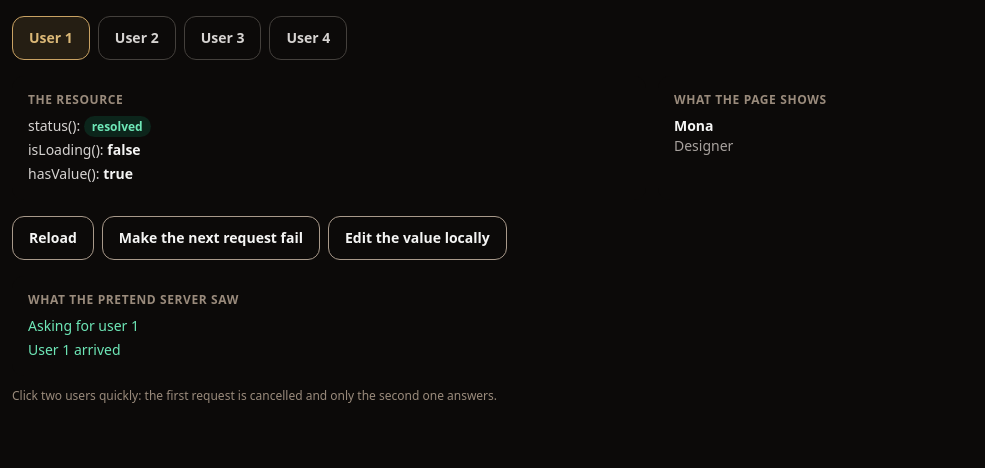
Test case: ResourceDemoComponent › shows the error and says there is no value when the request fails
Click the button "Make the next request fail": (211, 238) [102,216,320,260]
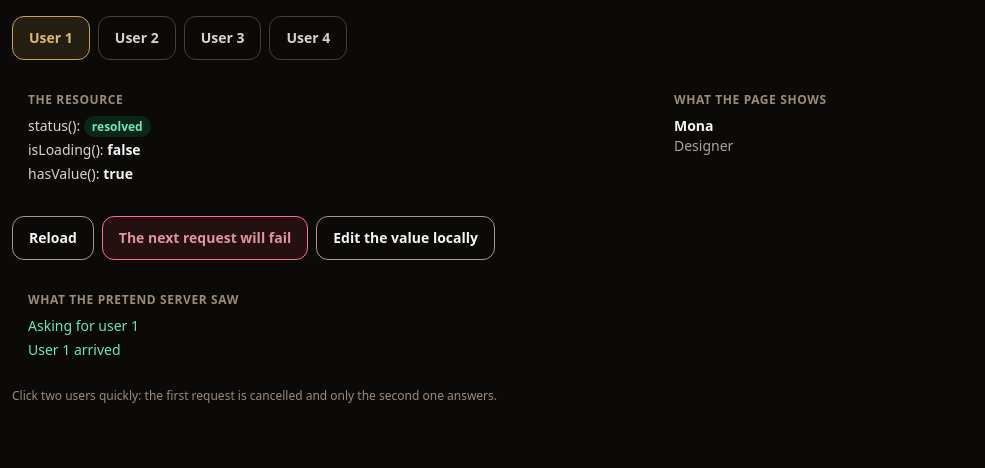
Click the button "Reload": (53, 238) [12,216,94,260]
Wait 900 ms
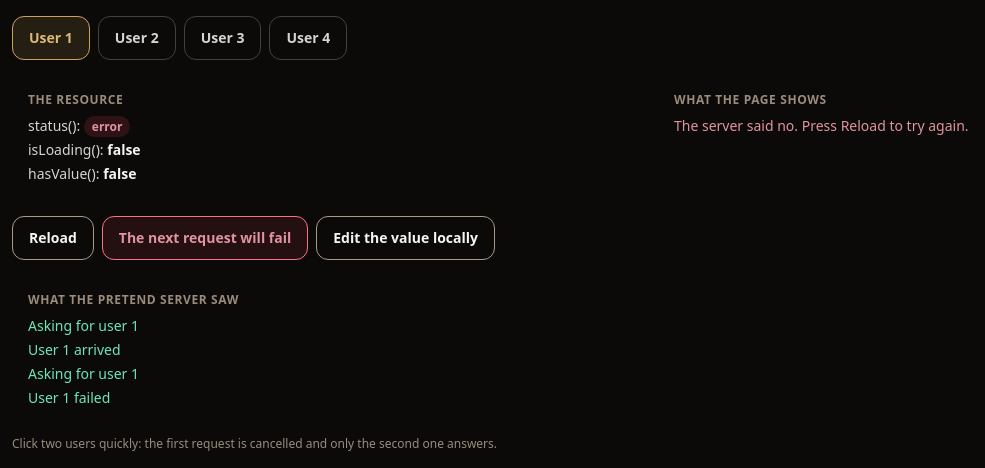
Expected: the text "false" next to "isLoading():" is shown, [107,140,141,159]
Expected: the text "error" is shown, [84,116,130,137]
